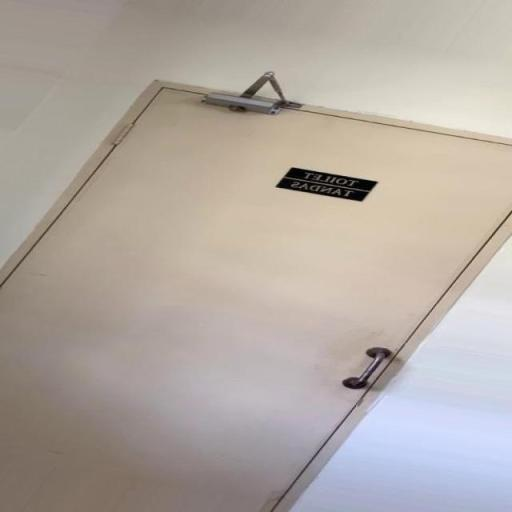door: (1, 80, 510, 511)
